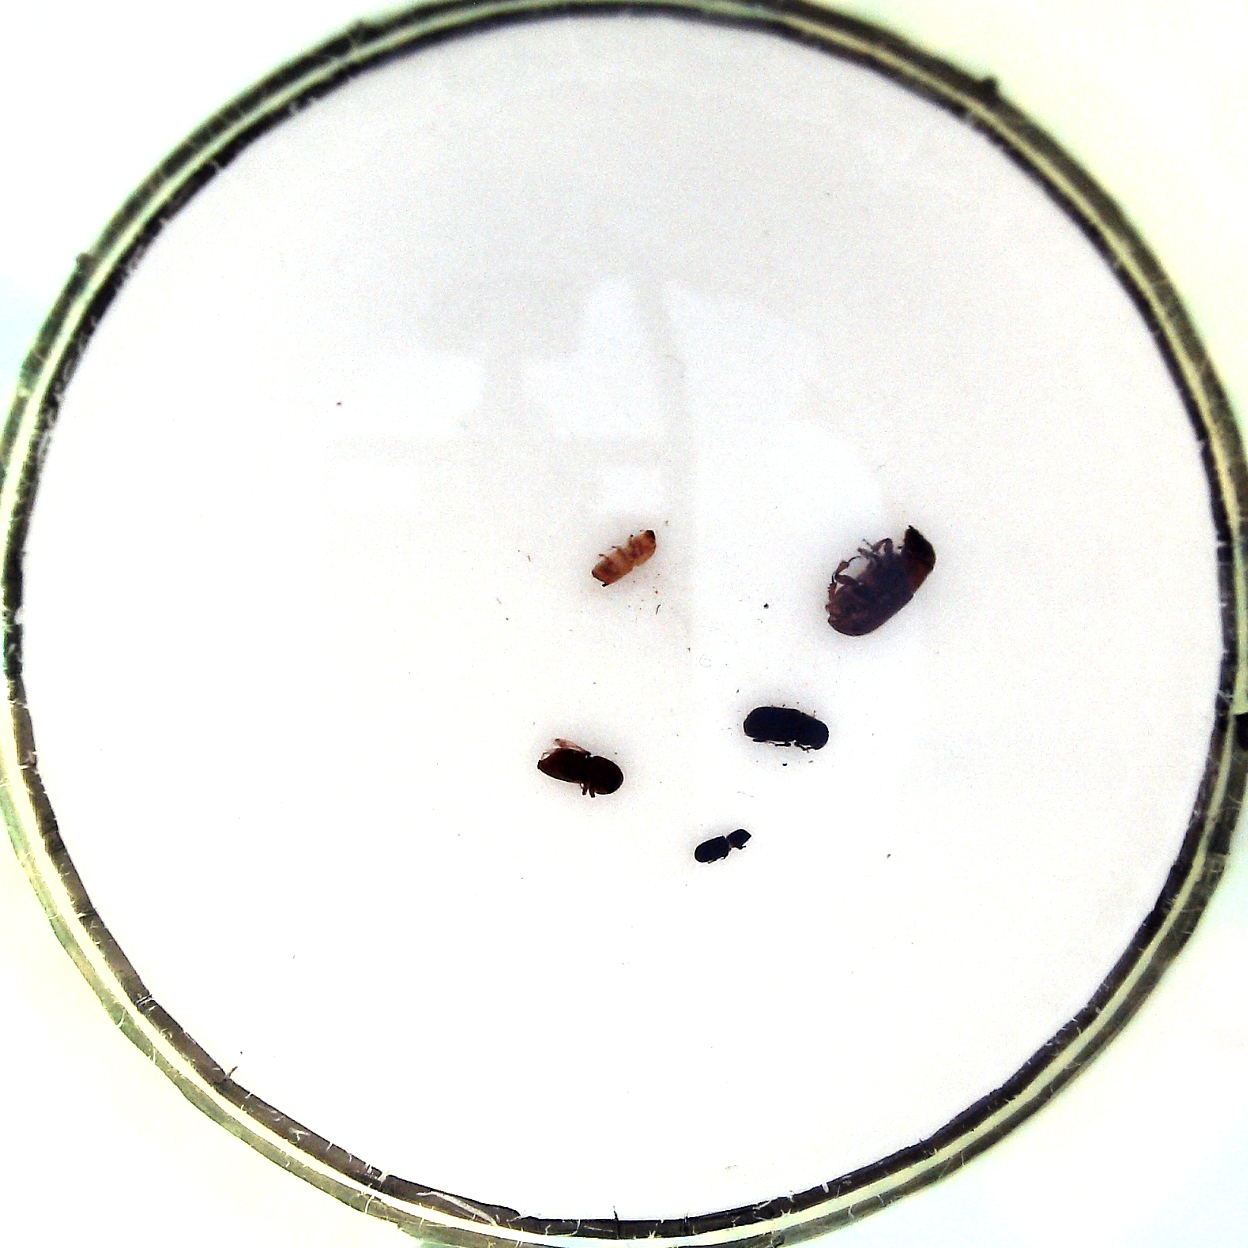Leconte: (817, 523, 937, 637)
Linnaeus: (533, 734, 629, 798)
acuminatus: (587, 527, 662, 586)
armandi: (742, 701, 835, 757)
coleoptera: (691, 826, 755, 867)
